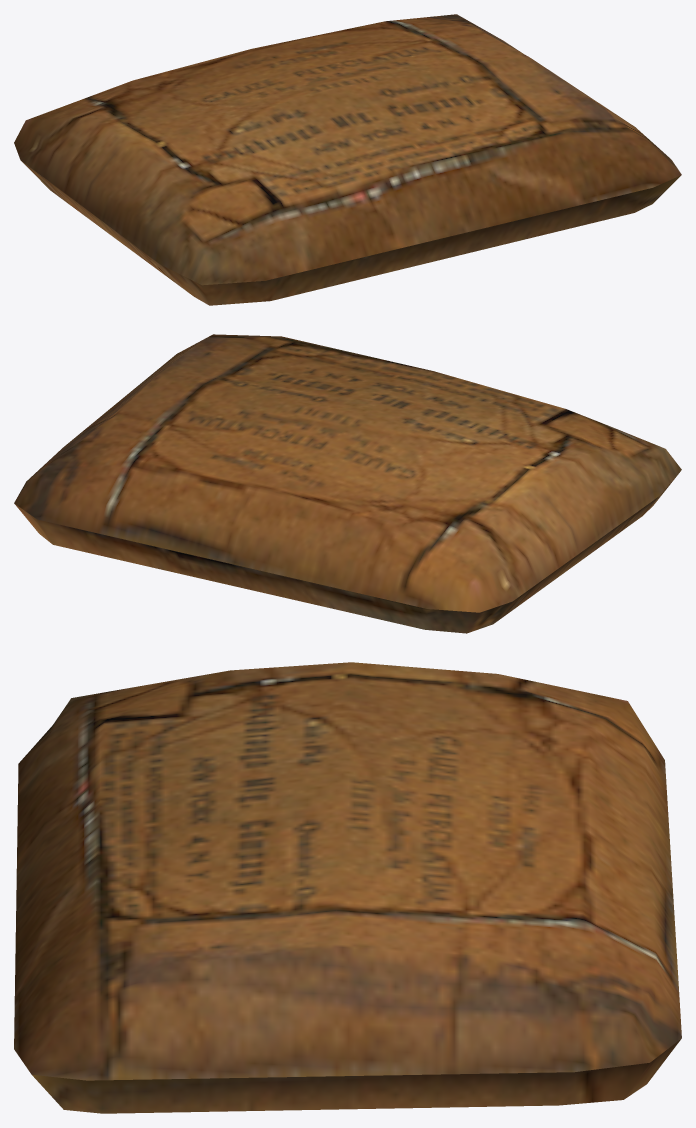
File: package_hr_1.obj
3 views of the same model, one above another, from view 1: azimuth 30°, elevation 25°; view 2: azimuth 150°, elevation 25°; view 3: azimuth 270°, elevation 25° (orthographic). The views are drawn at different scales.
Visible parts, largest first — view 1: package_hr_1; view 2: package_hr_1; view 3: package_hr_1.
Boxes of the visible parts, <box> form: package_hr_1: <box>14,14,681,305</box>; package_hr_1: <box>14,334,681,633</box>; package_hr_1: <box>14,662,681,1113</box>.
Bounding box in the file's own units: 0.5136 × 0.1019 × 0.3995.
